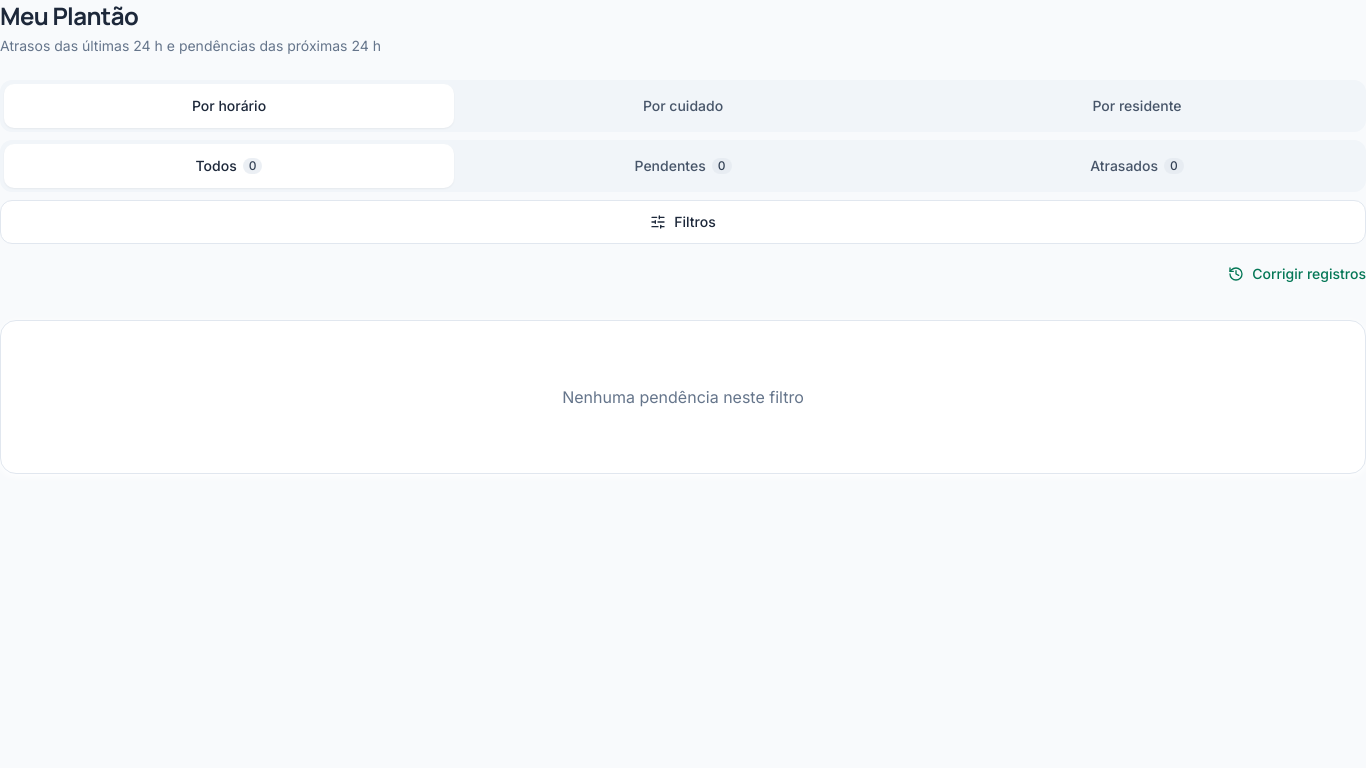
UX-01F — corrigir registros (decisão A) › anular estorna sem substituto e recarrega a fila
Step 1. Click the button "Corrigir registros" → (1297, 274), box [1228, 252, 1365, 296]
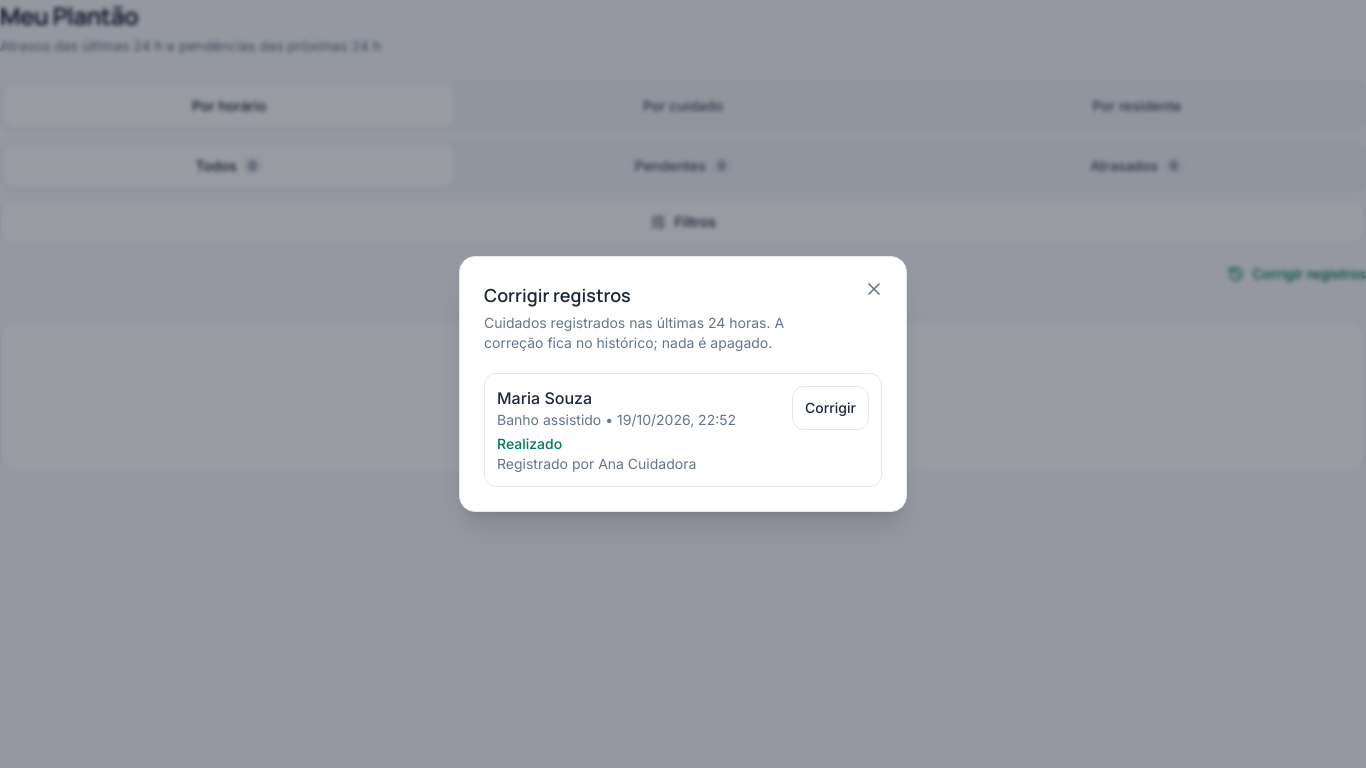
Step 2. Click the button with aria-label "Corrigir — " → (830, 408), box [792, 386, 869, 430]
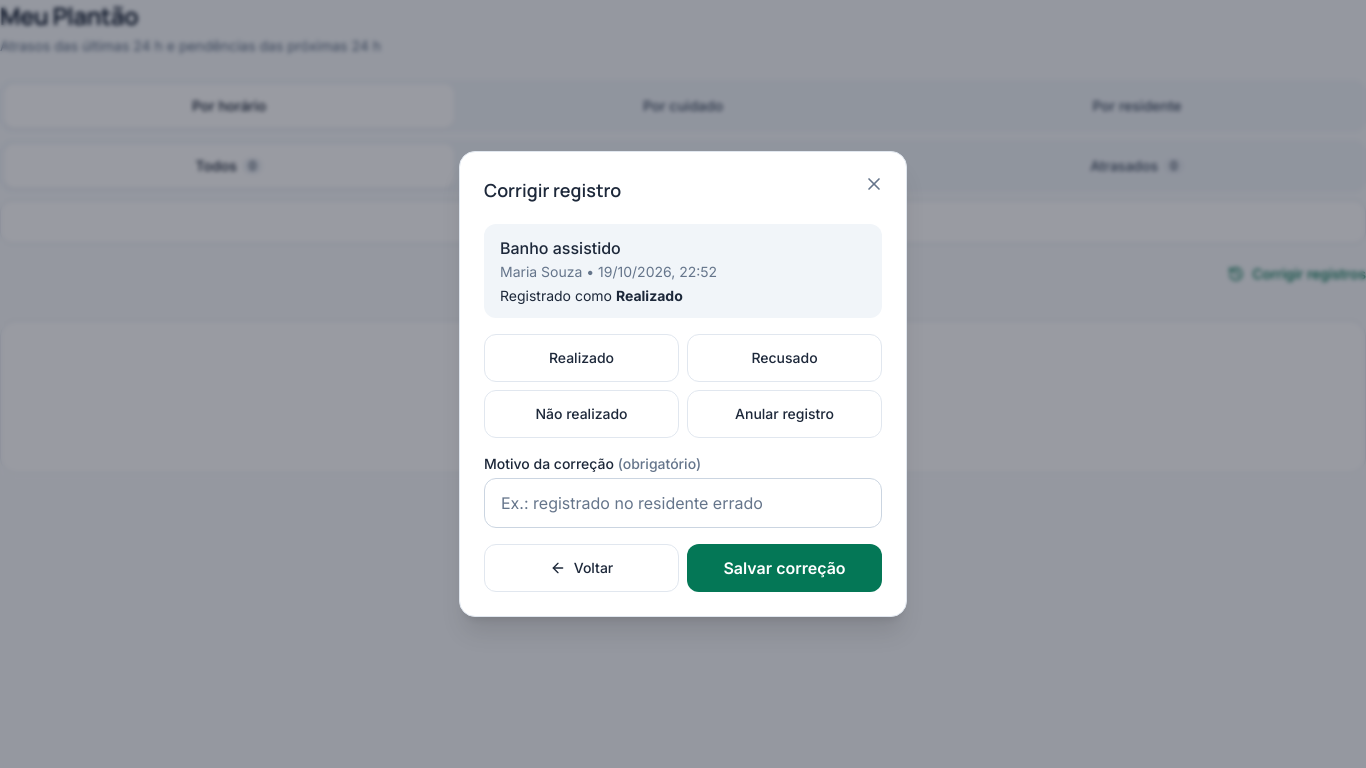
Step 3. Click the button "Anular registro" → (784, 414), box [687, 390, 882, 438]
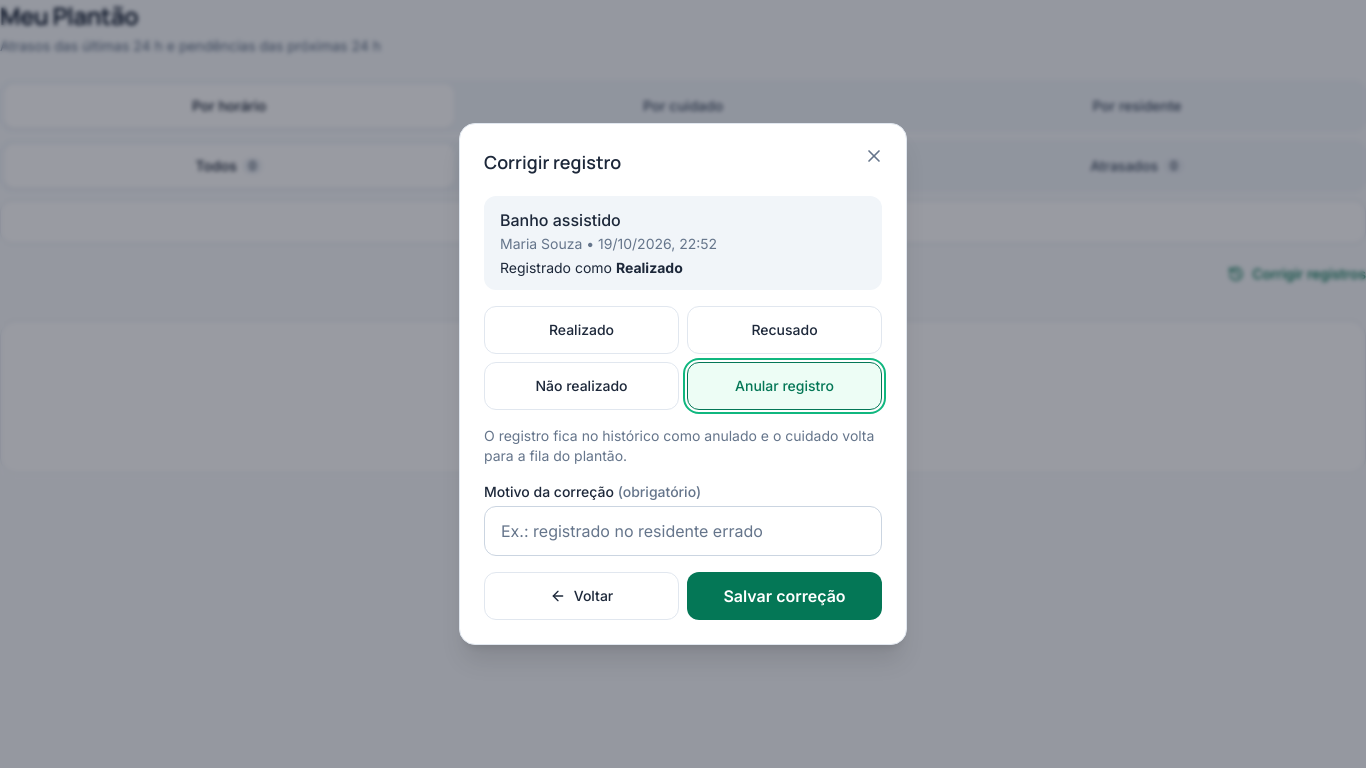
Step 4. Type "Residente errado" into the field labelled "Motivo da correção (obrigatório)" → (683, 531), box [484, 506, 882, 556]
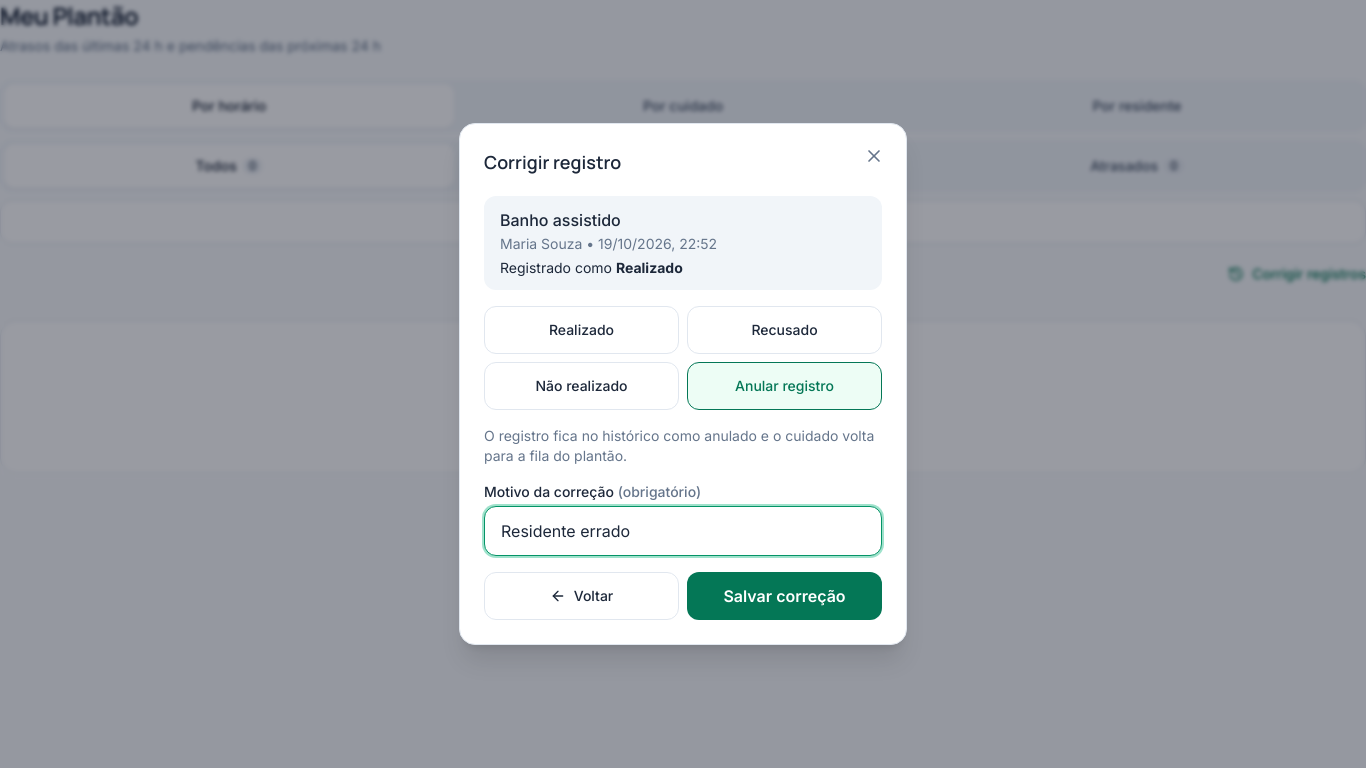
Step 5. Click the button "Salvar correção" → (784, 596), box [687, 572, 882, 620]
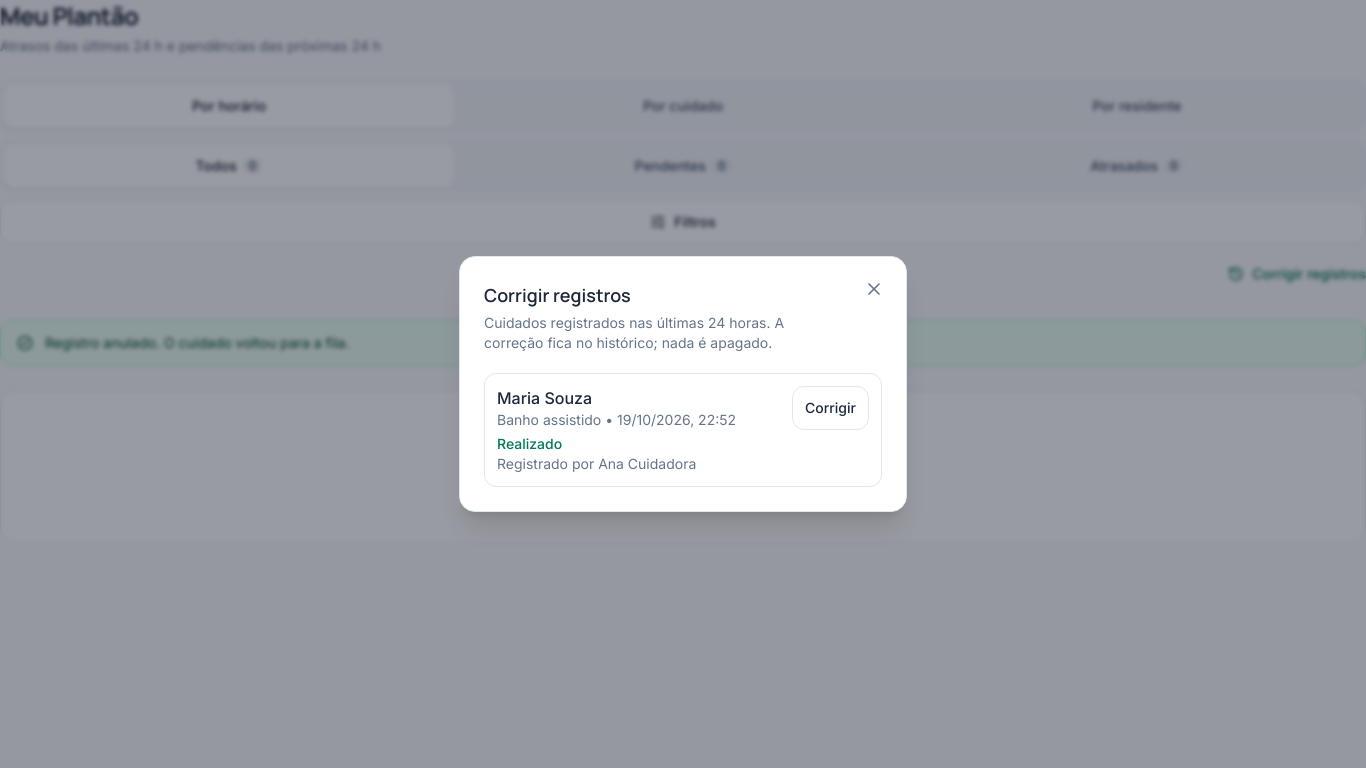
Result: the text "Registro anulado. O cuidado voltou para a fila." is shown at [45, 333, 350, 353]
